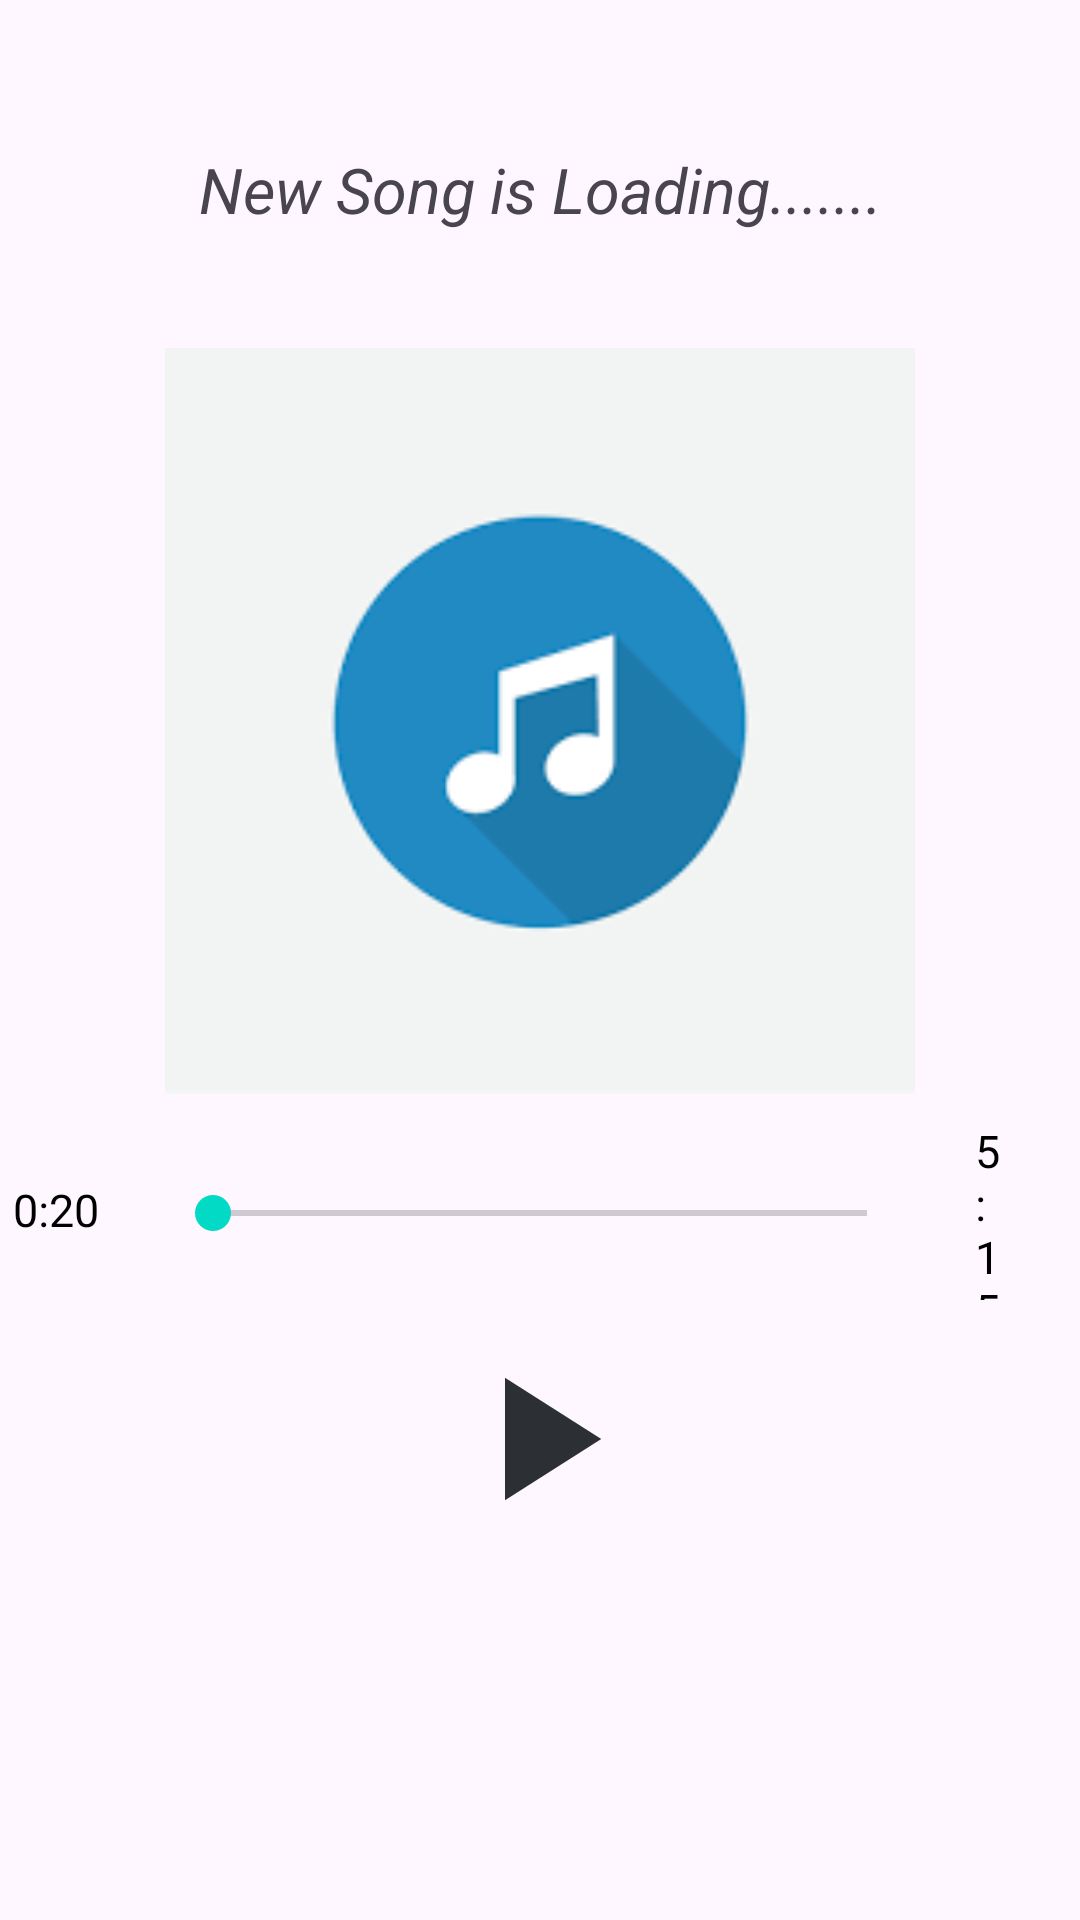

Screen size 1080w x 1920h. Icon name, then its box in pixels as [left=x1, top=y1, right=x2, bottom=y2]:
play arrow: [left=505, top=1378, right=601, bottom=1500]
